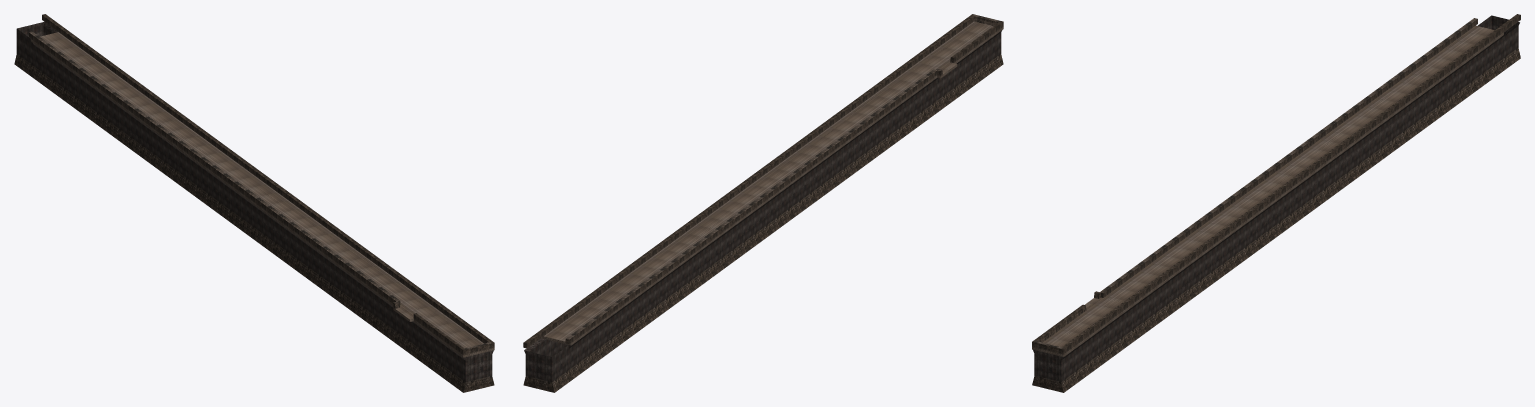
The model's file is components_city_wallsd.glb.
The picture shows the model from 3 angles, left to right: view 1: azimuth 30°, elevation 25°; view 2: azimuth 150°, elevation 25°; view 3: azimuth 330°, elevation 25°; orthographic projection.
Parts seen in each view (by area): view 1: city_wallsd; view 2: city_wallsd; view 3: city_wallsd.
Part boxes in pixels (box(x1,y1,x2,y2)): city_wallsd: box(14, 14, 494, 392); city_wallsd: box(523, 14, 1003, 392); city_wallsd: box(1032, 14, 1520, 392).
Bounding box in the file's own units: 14.5 × 17 × 324.
Materials: 3 (3 with a texture image).
